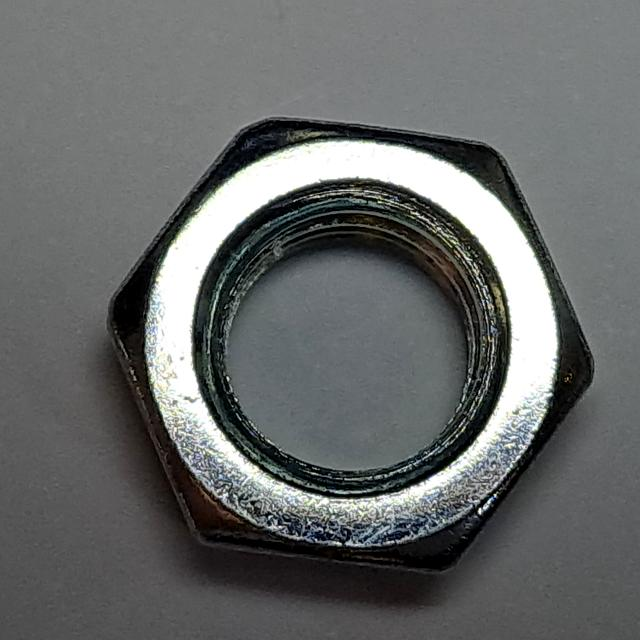Excellent: (87, 98, 605, 587)
